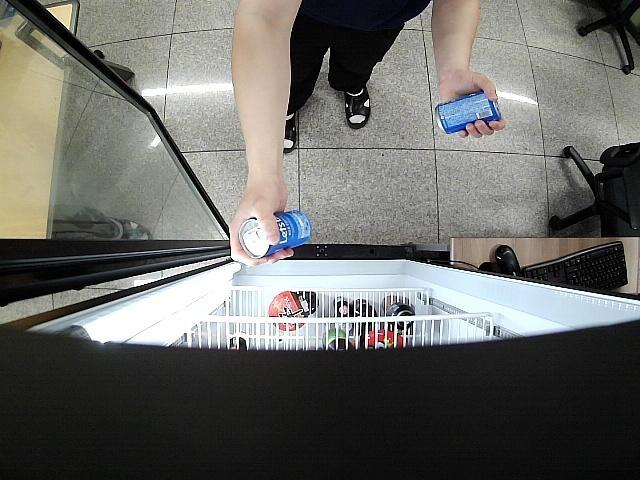15_letsbe: (240, 210, 313, 259), (432, 89, 502, 135)
